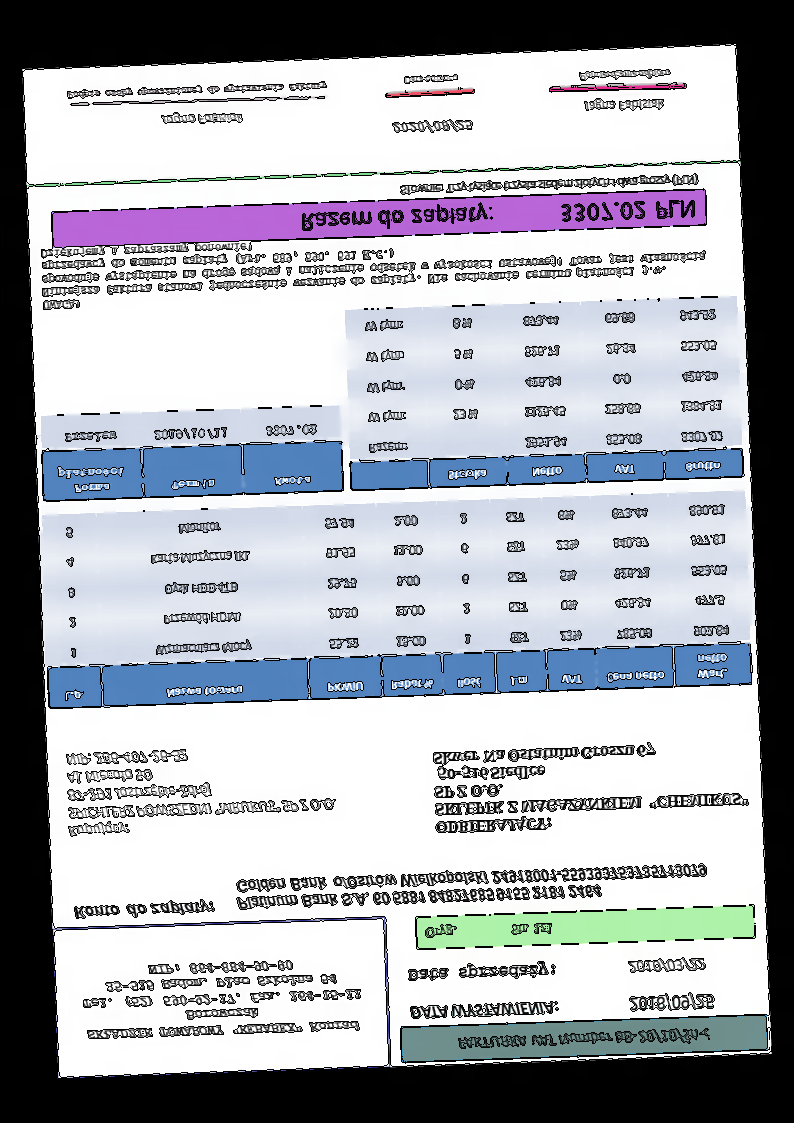Table: (40, 490, 753, 711), (344, 294, 744, 492), (38, 403, 345, 504)
TextBox: (38, 222, 707, 311), (431, 739, 749, 835), (62, 742, 338, 841), (81, 955, 365, 1043), (233, 861, 709, 913), (298, 193, 697, 236), (397, 170, 700, 198), (454, 1025, 715, 1053), (64, 79, 328, 103), (406, 959, 558, 986), (70, 896, 216, 922), (407, 998, 561, 1022), (422, 918, 555, 941), (626, 991, 716, 1015), (576, 66, 672, 84), (626, 956, 708, 974), (582, 96, 664, 114), (159, 111, 244, 127), (391, 118, 475, 134), (402, 72, 460, 87)
